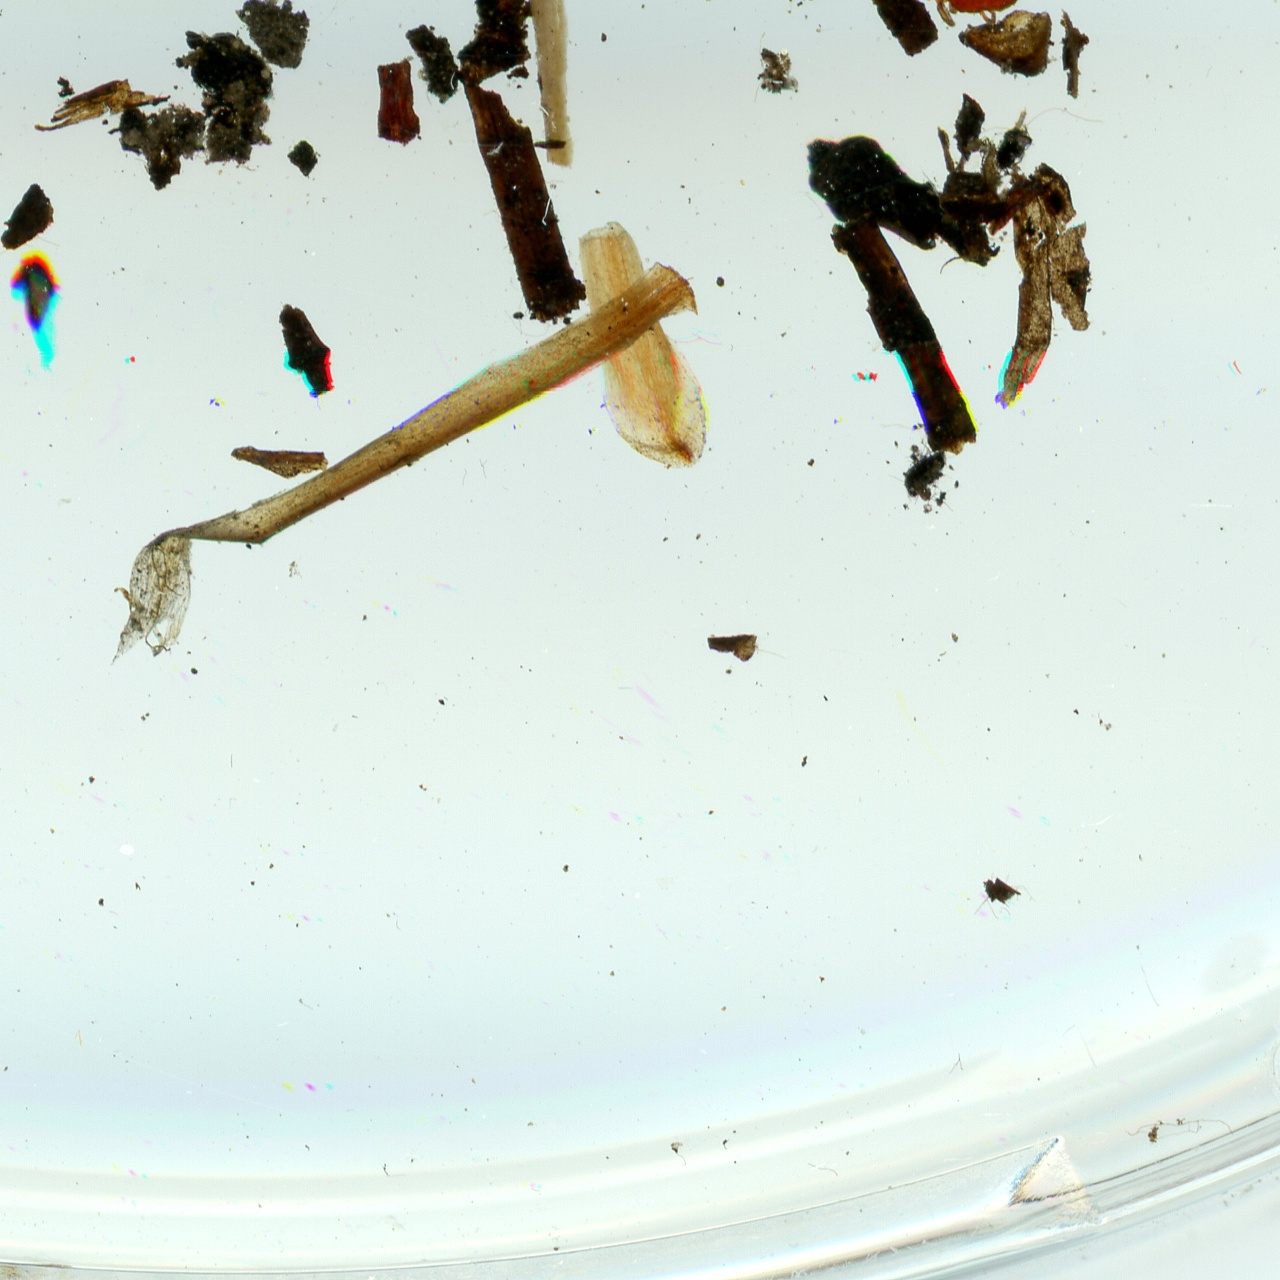arthropod: (912, 0, 1024, 29)
